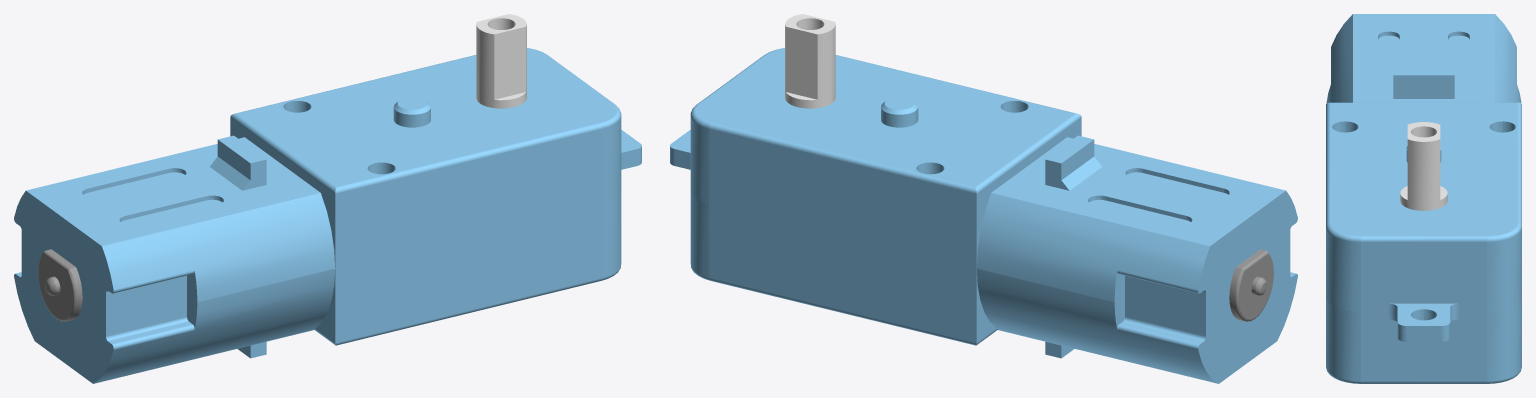
Rendered from ada-3802.glb.
3 views of the same model, side by side, from view 1: azimuth 30°, elevation 25°; view 2: azimuth 150°, elevation 25°; view 3: azimuth 270°, elevation 25° (orthographic). The views are drawn at different scales.
Parts seen in each view (by area): view 1: 0.3333333333333333_0.6666666666666666_1_0, 0.9166666666666666_0.9166666666666666_0.9166666666666666_0.8, 0.3333333333333333_0.3333333333333333_0.3333333333333333_0; view 2: 0.3333333333333333_0.6666666666666666_1_0, 0.9166666666666666_0.9166666666666666_0.9166666666666666_0.8, 0.3333333333333333_0.3333333333333333_0.3333333333333333_0; view 3: 0.3333333333333333_0.6666666666666666_1_0, 0.9166666666666666_0.9166666666666666_0.9166666666666666_0.8.
Boxes of the visible parts, x1=… form: 0.3333333333333333_0.6666666666666666_1_0: x1=14, y1=48, x2=641, y2=383; 0.9166666666666666_0.9166666666666666_0.9166666666666666_0.8: x1=476, y1=14, x2=526, y2=108; 0.3333333333333333_0.3333333333333333_0.3333333333333333_0: x1=38, y1=249, x2=82, y2=321; 0.3333333333333333_0.6666666666666666_1_0: x1=670, y1=48, x2=1297, y2=383; 0.9166666666666666_0.9166666666666666_0.9166666666666666_0.8: x1=785, y1=14, x2=835, y2=108; 0.3333333333333333_0.3333333333333333_0.3333333333333333_0: x1=1229, y1=249, x2=1273, y2=321; 0.3333333333333333_0.6666666666666666_1_0: x1=1326, y1=14, x2=1521, y2=383; 0.9166666666666666_0.9166666666666666_0.9166666666666666_0.8: x1=1400, y1=122, x2=1447, y2=210.
Bounding box in the file's own units: 7.2 × 3.03 × 2.24.
